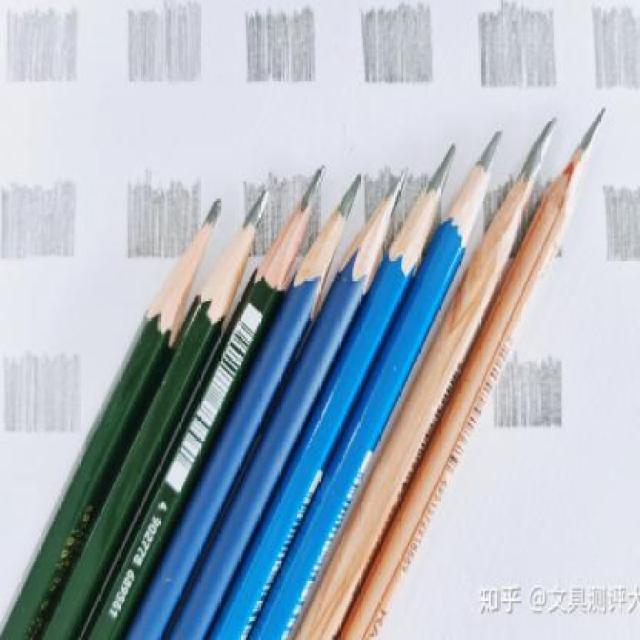pencil: (337, 103, 613, 640), (294, 113, 562, 640), (248, 123, 506, 640), (209, 135, 460, 640), (80, 155, 330, 640), (165, 160, 410, 640), (123, 167, 365, 640), (38, 180, 275, 640), (0, 190, 226, 640)
